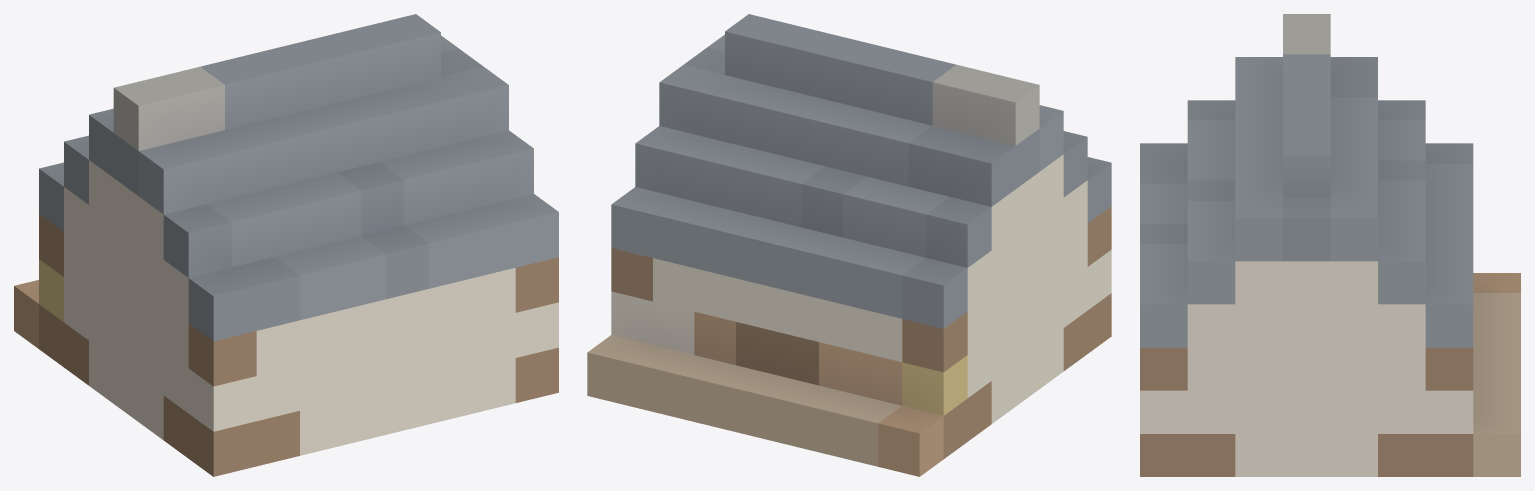
The model's file is slaughterhouse.lite.glb.
The picture shows the model from 3 angles, left to right: view 1: azimuth 30°, elevation 25°; view 2: azimuth 150°, elevation 25°; view 3: azimuth 270°, elevation 25°; orthographic projection. The views are drawn at different scales.
Visible parts, largest first — view 1: slaughterhouse; view 2: slaughterhouse; view 3: slaughterhouse.
Boxes of the visible parts, <box> form: slaughterhouse: <box>14,14,558,476</box>; slaughterhouse: <box>587,14,1111,476</box>; slaughterhouse: <box>1140,14,1520,476</box>.
Bounding box in the file's own units: 4 × 3.5 × 4.
